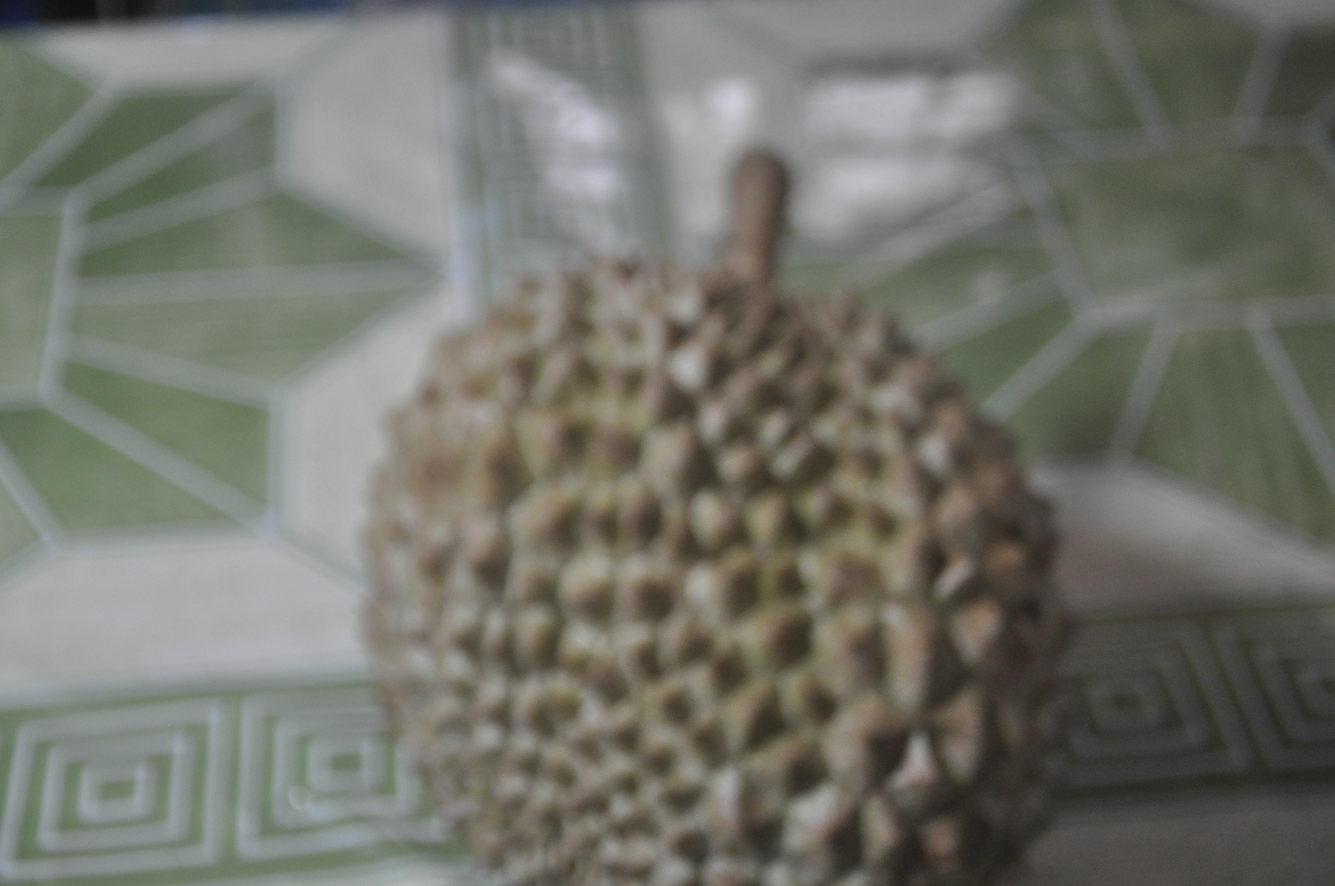mature: (291, 128, 1101, 886)
